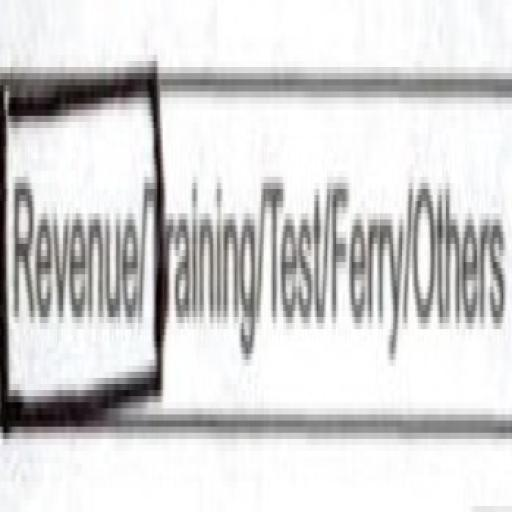check: (0, 15, 145, 481)
